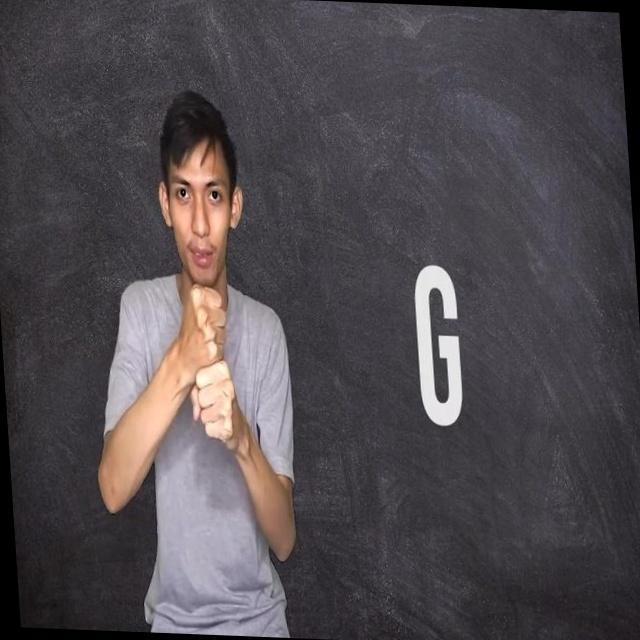G: (178, 277, 242, 453)
